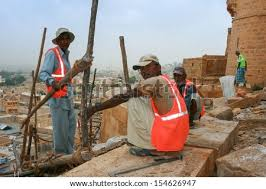arm: (39, 51, 70, 92)
face: (139, 59, 157, 75), (57, 34, 72, 49)
glove: (73, 53, 92, 70), (51, 77, 64, 88)
human: (121, 48, 191, 157), (36, 24, 89, 160), (229, 47, 252, 91)
leg: (48, 101, 67, 154), (64, 102, 79, 154)
nogoggle: (59, 36, 71, 43)
nohelmet: (135, 50, 160, 71), (51, 25, 74, 46), (172, 63, 188, 77)
vest: (146, 75, 188, 149), (41, 47, 73, 97), (234, 56, 247, 68)
